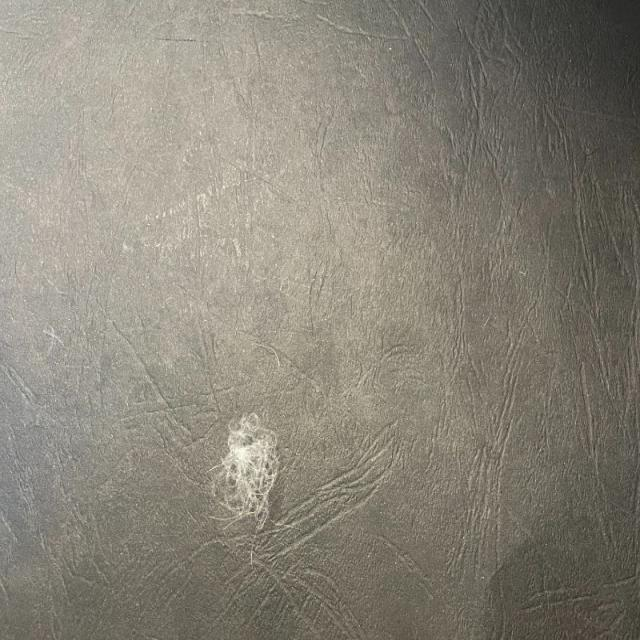feather: (211, 405, 289, 527)
